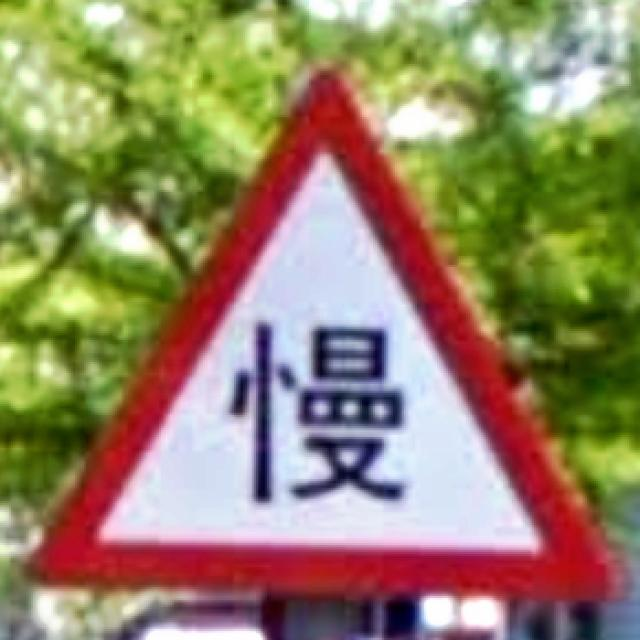slow: (29, 73, 616, 600)
